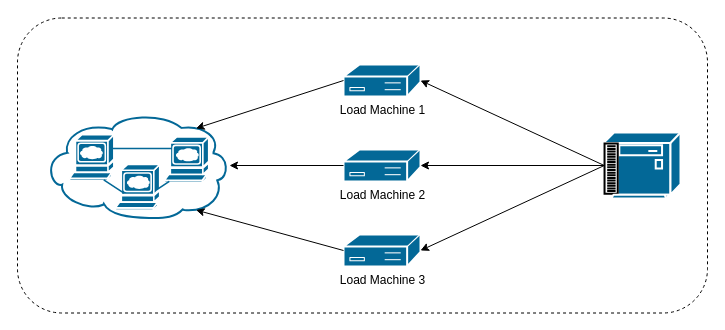
This 725x330 diagram has some shape labels left out. The shapes that lost their labels are listed below. From the top down, each one's centre as x and y in pixels, then its label:
At (x=136, y=165): "Target Server Cluster".
At (x=641, y=165): "Control Machine".
